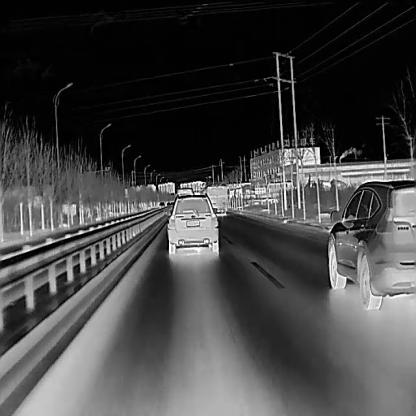bus: (201, 184, 227, 214)
car: (326, 178, 415, 309), (166, 192, 218, 252), (158, 201, 164, 209)
truck: (255, 180, 294, 204)
